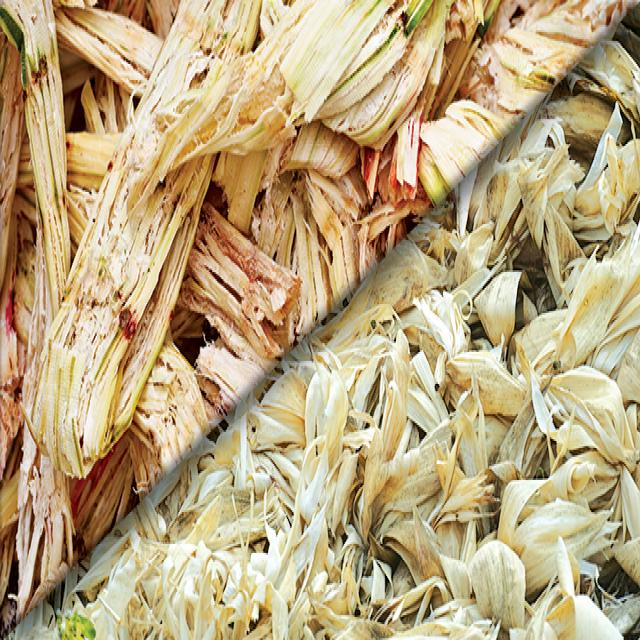Organik: (2, 2, 628, 633)
